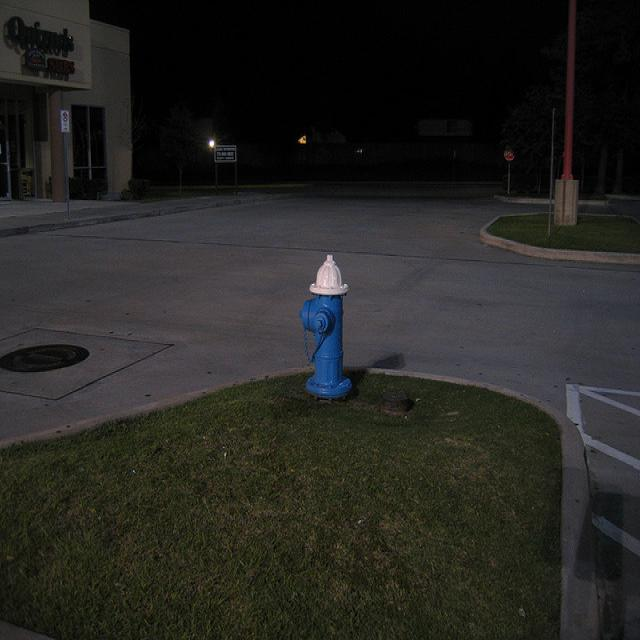fire_hydrant: (296, 256, 352, 400)
